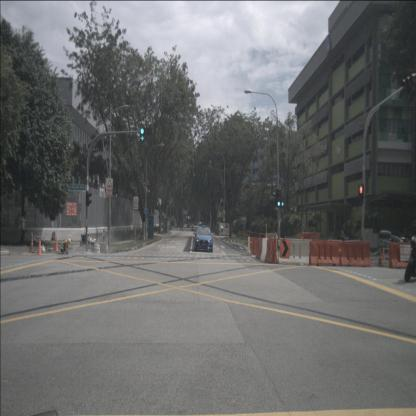barrier: (277, 240, 310, 266), (340, 241, 370, 267), (309, 241, 340, 266), (389, 241, 415, 270), (299, 232, 321, 254), (265, 238, 278, 264), (260, 238, 268, 263), (255, 238, 264, 260), (249, 237, 260, 255), (246, 235, 252, 256)
cone: (53, 235, 60, 252), (377, 248, 383, 266), (29, 236, 34, 254), (105, 240, 110, 255), (37, 238, 41, 254), (382, 248, 385, 261)
